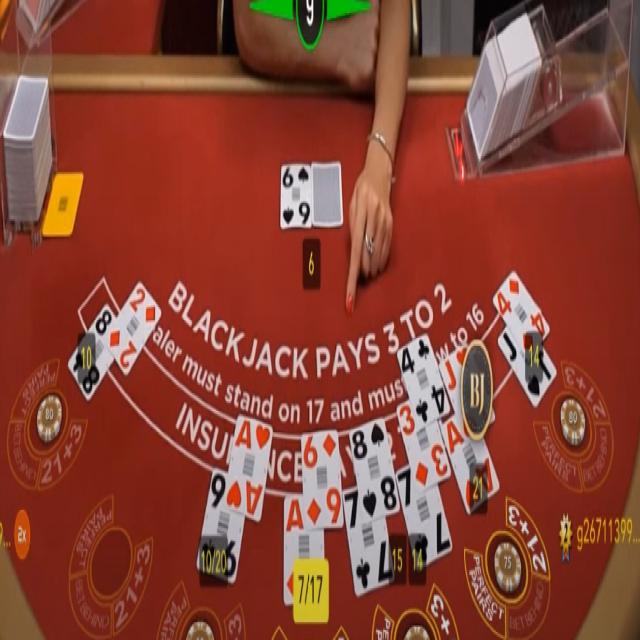Card-2: (105, 280, 162, 378)
Card-3: (396, 400, 451, 497)
Card-4: (396, 332, 450, 429), (492, 268, 550, 356)
Card-6: (301, 429, 343, 530), (280, 163, 312, 229)
Card-7: (396, 466, 452, 574), (343, 485, 395, 597)
Card-8: (349, 417, 400, 524), (68, 303, 116, 402)
Card-9: (196, 464, 245, 583)
Card-A: (441, 413, 500, 514), (226, 412, 273, 522), (284, 495, 324, 603)
Card-J: (439, 342, 495, 442), (497, 322, 557, 408)
